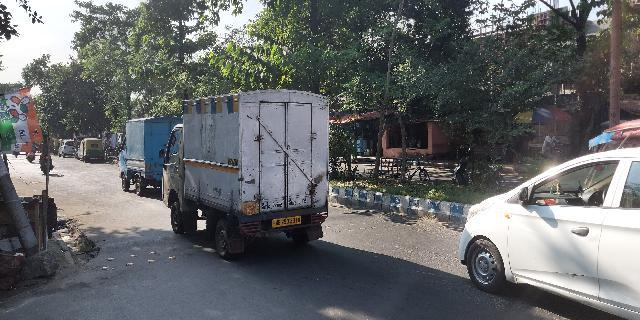Autorickshaw: (73, 136, 106, 162)
Car: (457, 146, 639, 320)
Minitruck: (158, 87, 334, 260), (110, 115, 174, 193)
